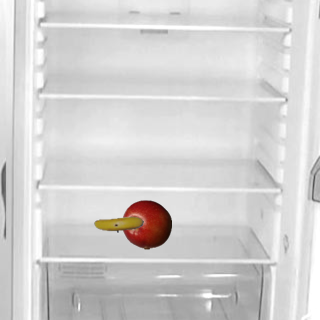Apple Braeburn: (121, 199, 171, 249)
Banana: (93, 199, 143, 249)
